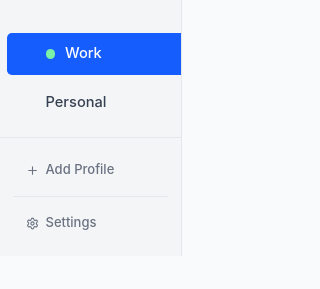
Test: Sidebar › shows new profile input when Add Profile is clicked
The width and height of the screenshot is (320, 289).
Click the button "Add Profile".
click(90, 170)  # box [13, 150, 168, 190]
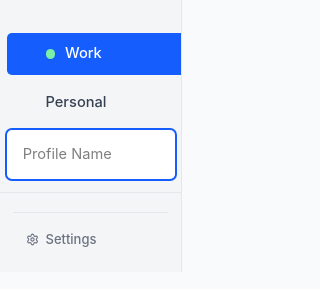
Result: the field with placeholder "Profile Name" is shown at [13, 136, 168, 172]
